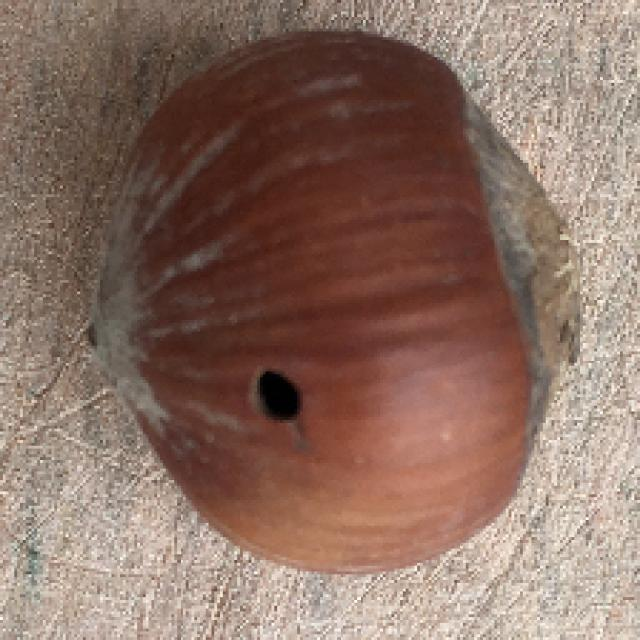damagedHazelnut: (90, 27, 584, 575)
